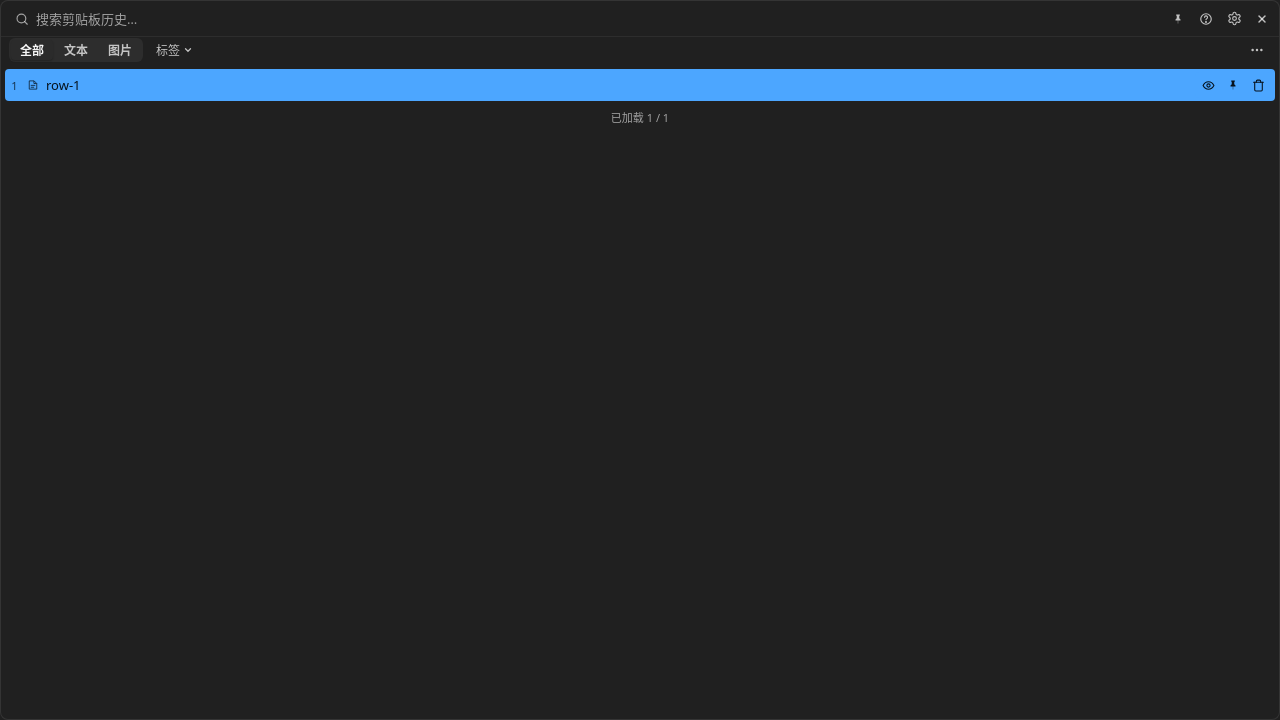
Test: live history list › keeps list loading independent from a stalled tag request
The width and height of the screenshot is (1280, 720).
Expected: the text "row-1" is shown, 46,76 -> 81,94
Click the button "标签": [174, 50] box 149,38 -> 200,62
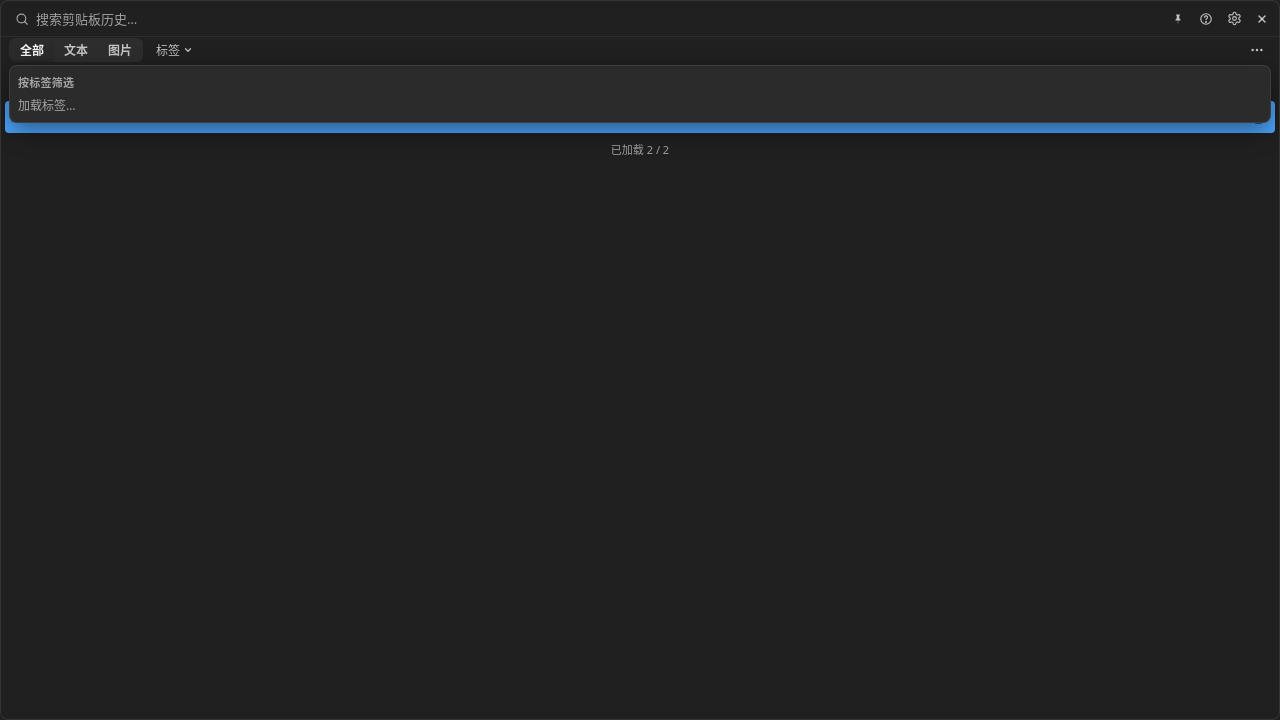
Now the text "row-2" is shown, box 46,76 -> 81,94
